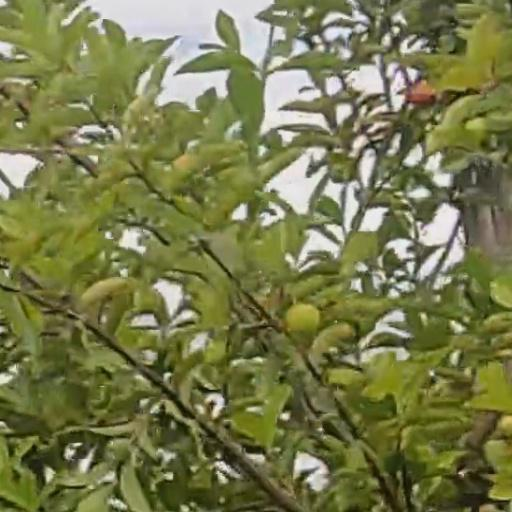acerola_verde: (285, 304, 318, 334)
acerola_vermelha: (412, 82, 437, 105)
